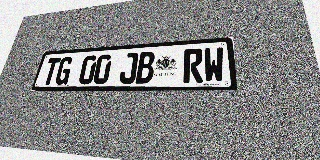0: (92, 54, 113, 84), (78, 55, 98, 84)
B: (135, 51, 155, 84)
G: (54, 57, 74, 85)
J: (118, 52, 139, 84)
R: (183, 48, 203, 83)
T: (41, 57, 61, 85)
W: (203, 47, 225, 83)
